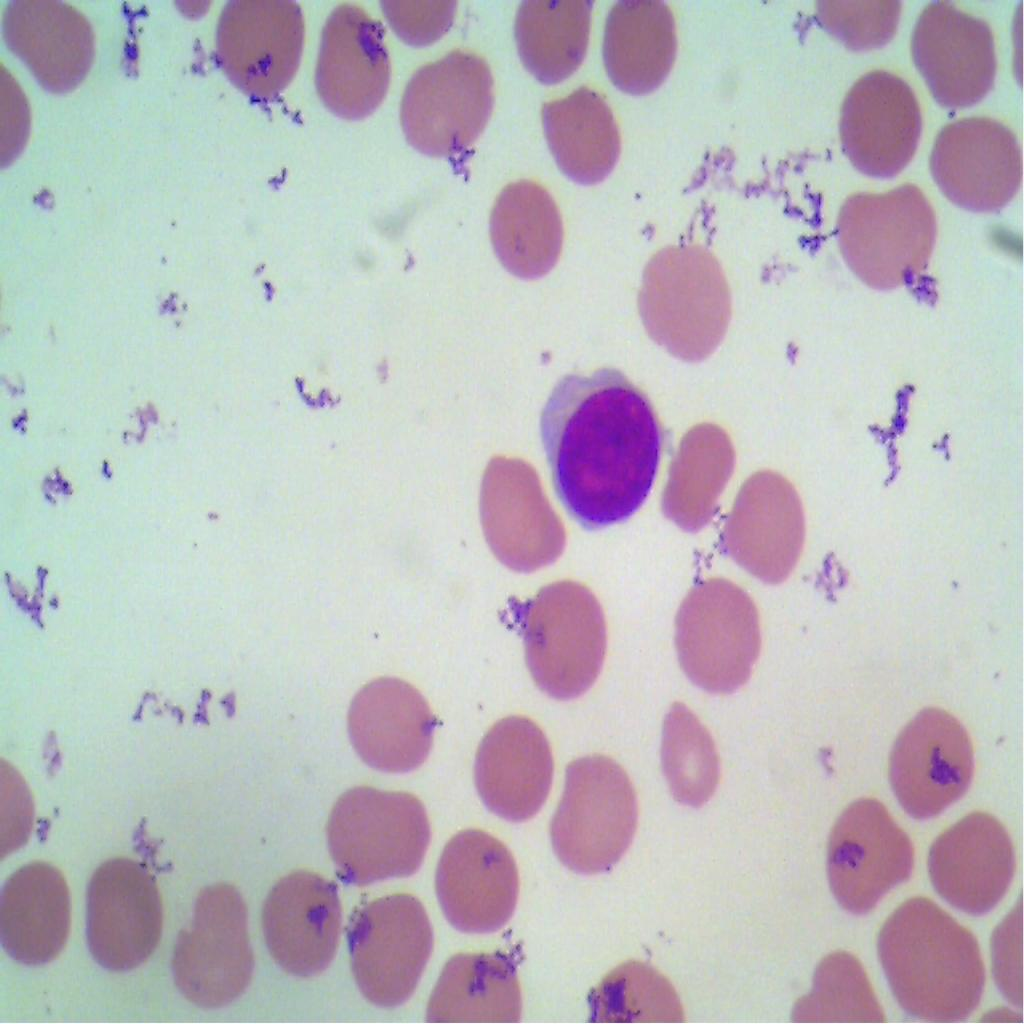Eritrosit: (508, 565, 614, 705), (824, 784, 926, 922), (321, 772, 433, 895), (544, 745, 644, 881), (821, 177, 939, 292), (666, 569, 762, 704), (883, 901, 988, 1023), (394, 50, 502, 168), (924, 799, 1023, 927), (652, 412, 738, 557), (166, 877, 258, 1011), (636, 242, 735, 365), (898, 0, 1006, 112), (470, 448, 570, 567), (342, 892, 438, 1015), (884, 698, 974, 828), (830, 62, 926, 180), (533, 81, 631, 195), (344, 661, 438, 779), (310, 0, 390, 135), (926, 106, 1024, 216), (78, 852, 164, 977), (212, 0, 306, 114), (721, 465, 809, 586), (430, 826, 524, 938), (0, 0, 99, 103), (266, 870, 350, 984), (482, 172, 563, 290), (474, 701, 552, 821), (0, 861, 76, 977), (584, 0, 678, 92), (506, 0, 612, 81), (651, 701, 722, 821)
Limfosit: (533, 360, 669, 527)
